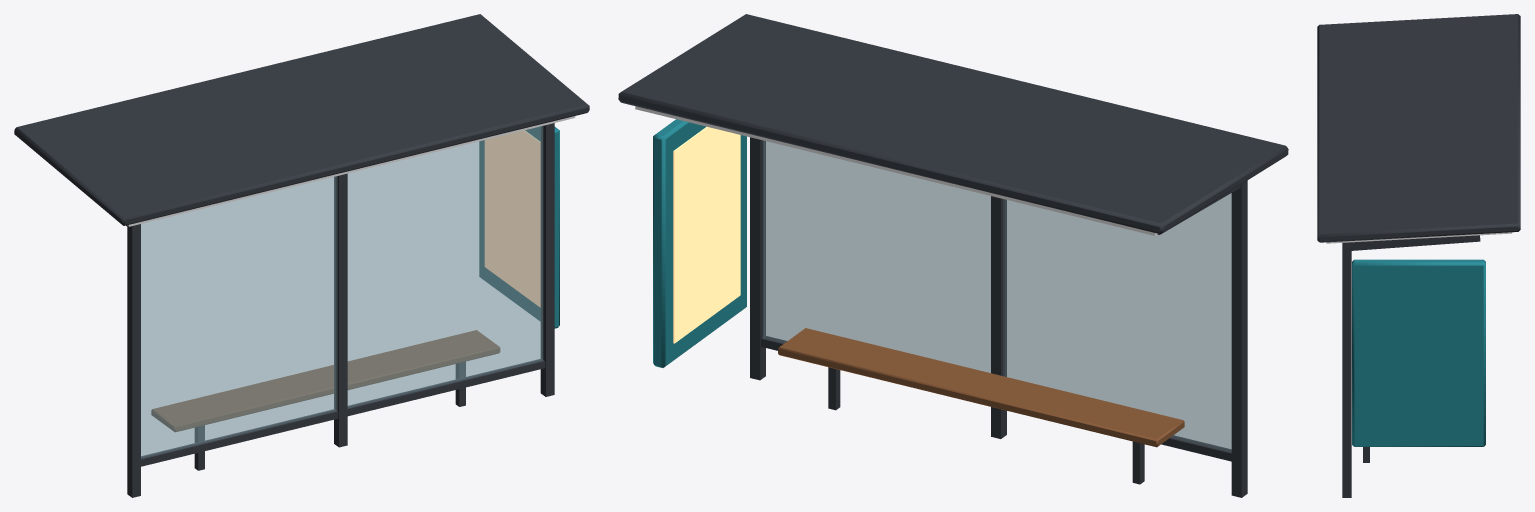
File: bus_stop.glb
3 renders of one model, left to right at view 1: azimuth 30°, elevation 25°; view 2: azimuth 150°, elevation 25°; view 3: azimuth 270°, elevation 25°, orthographic. The views are drawn at different scales.
Parts seen in each view (by area): view 1: PROP_bus_stop; view 2: PROP_bus_stop; view 3: PROP_bus_stop.
Boxes of the visible parts, x1=… form: PROP_bus_stop: x1=14, y1=14, x2=589, y2=497; PROP_bus_stop: x1=618, y1=14, x2=1288, y2=497; PROP_bus_stop: x1=1317, y1=14, x2=1520, y2=497.
Size of the model in its own units: 4.3 by 2.69 by 1.75.
